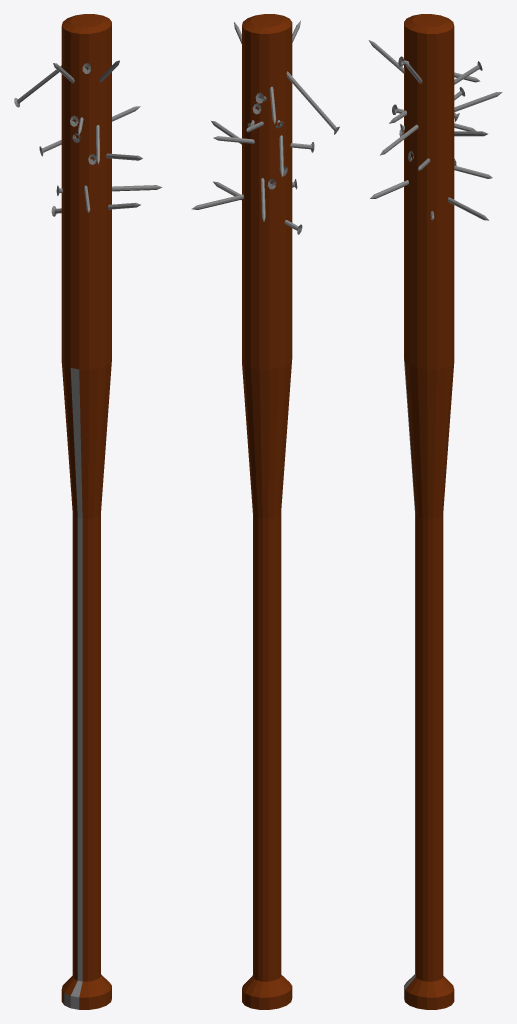
The model's file is bat (1).fbx.
3 renders of one model, left to right at view 1: azimuth 30°, elevation 25°; view 2: azimuth 210°, elevation 25°; view 3: azimuth 330°, elevation 25°, orthographic.
Parts seen in each view (by area): view 1: Cylinder; view 2: Cylinder; view 3: Cylinder.
Part boxes in pixels (left/top/right/bottom): Cylinder: left=14, top=14, right=162, bottom=1009; Cylinder: left=191, top=14, right=339, bottom=1009; Cylinder: left=368, top=14, right=502, bottom=1009.
Bounding box in the file's own units: 10 × 81 × 10.
